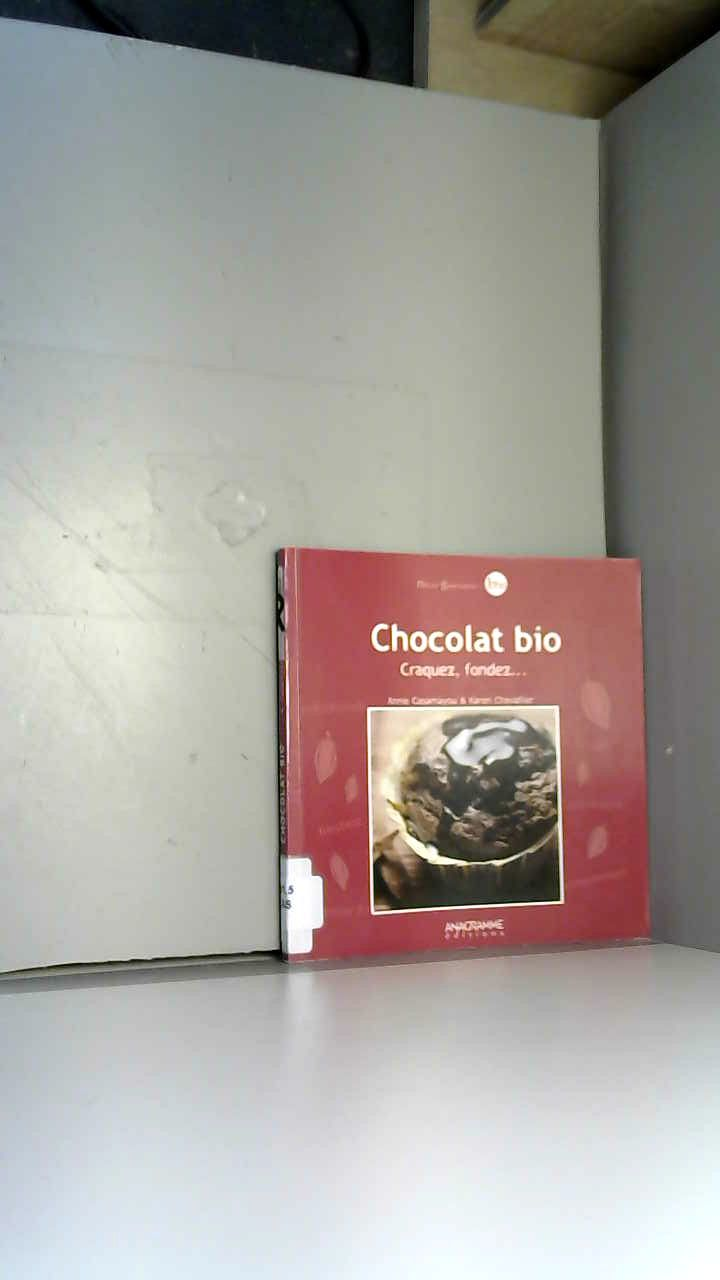book: (240, 510, 682, 1005)
